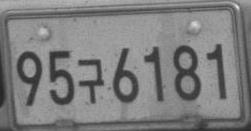1: (205, 42, 234, 99), (142, 44, 170, 101)
5: (48, 50, 75, 106)
6: (112, 46, 139, 103)
8: (172, 43, 201, 100)
9: (15, 50, 43, 106)
구: (77, 58, 105, 104)
